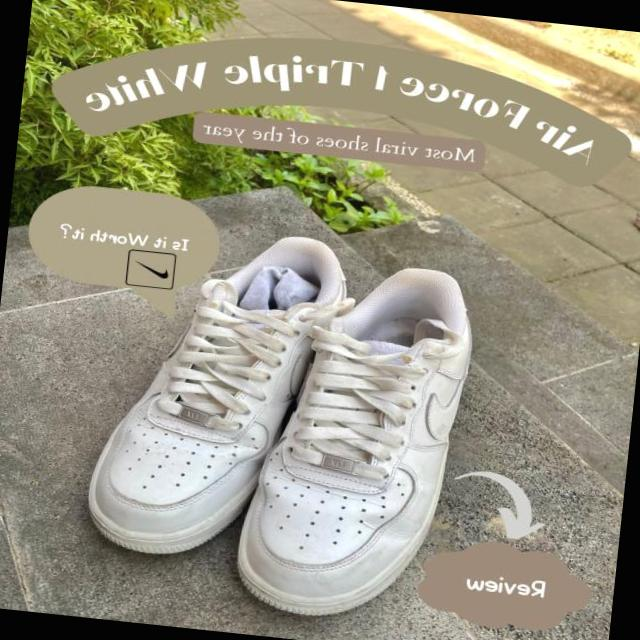nike_original_airforce: (228, 250, 486, 634), (76, 218, 351, 576)
